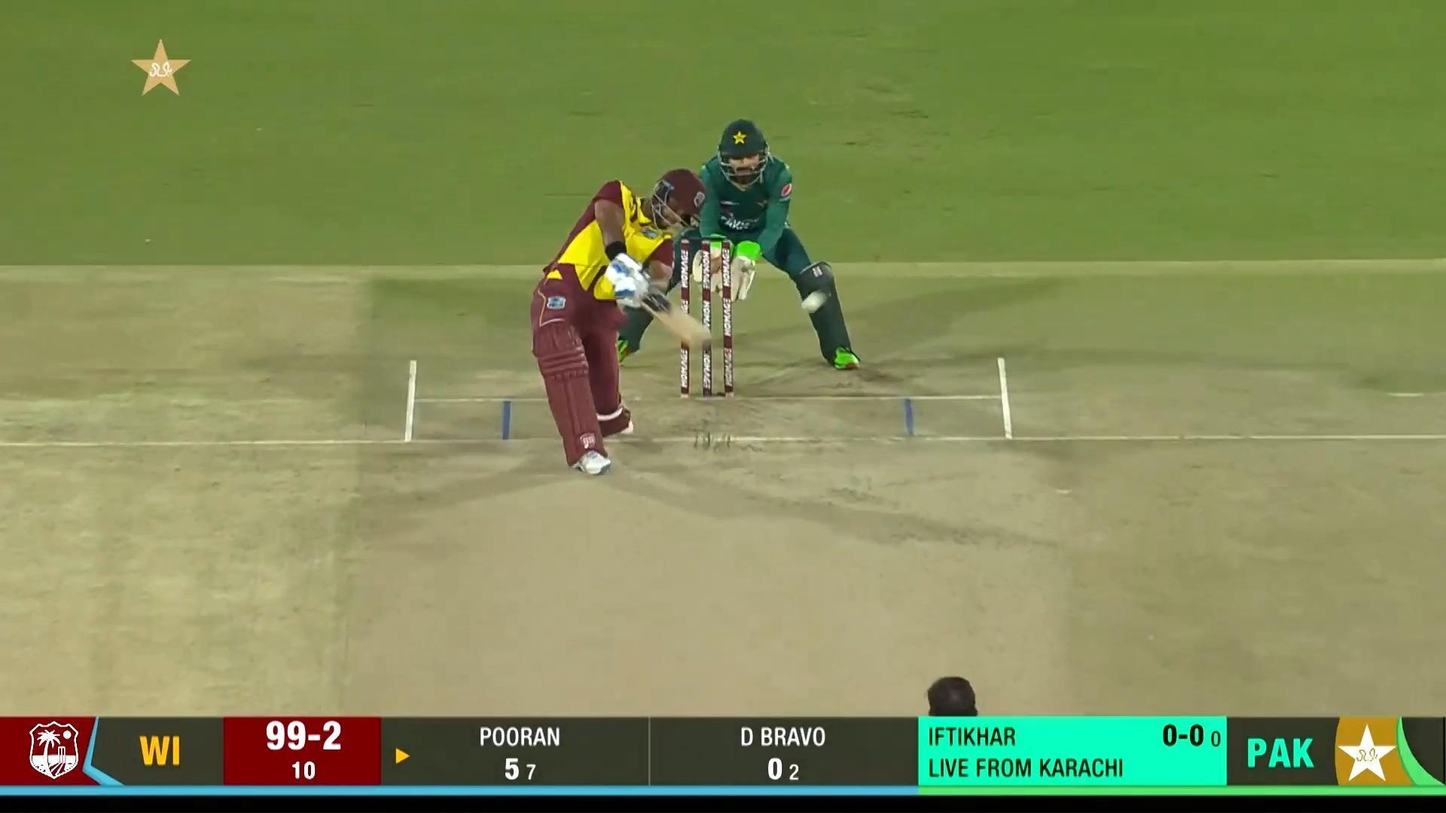BM 1: (530, 167, 714, 477)
BO: (927, 675, 978, 717)
